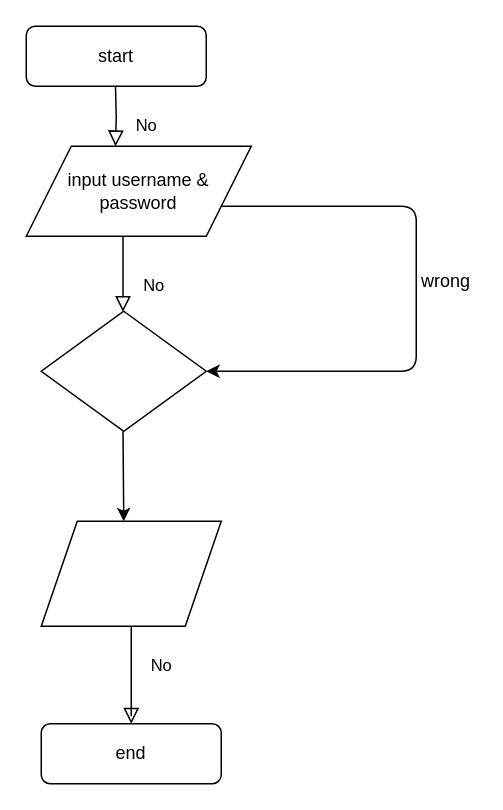
Some shapes in this 503 by 810 pixel diagram are drawn without their labels. Here are the shapes that lost their labels. From the top down, the box of each, then its label:
(40, 310, 206, 431): process
(40, 520, 221, 626): view
